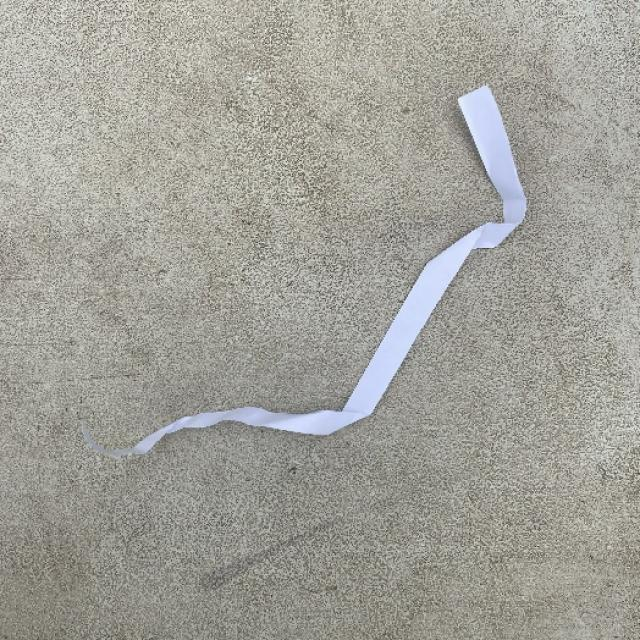paper: (80, 83, 528, 459)
